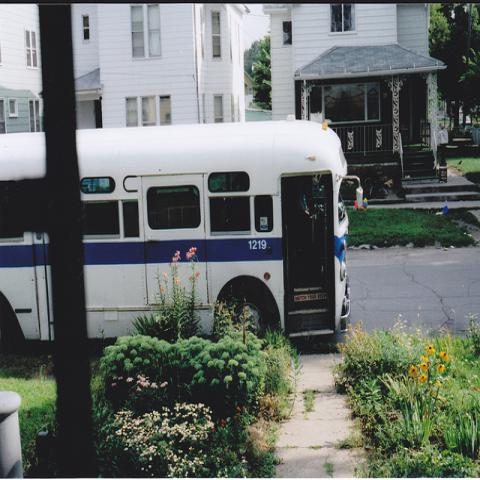bus: (0, 119, 365, 359)
